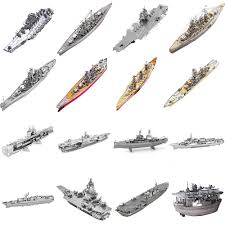tau_muctieu: (60, 1, 110, 55), (5, 8, 56, 55), (118, 2, 159, 57), (1, 121, 57, 159), (117, 177, 171, 215), (54, 126, 113, 152), (174, 128, 223, 153), (2, 187, 59, 208), (116, 131, 170, 152)
